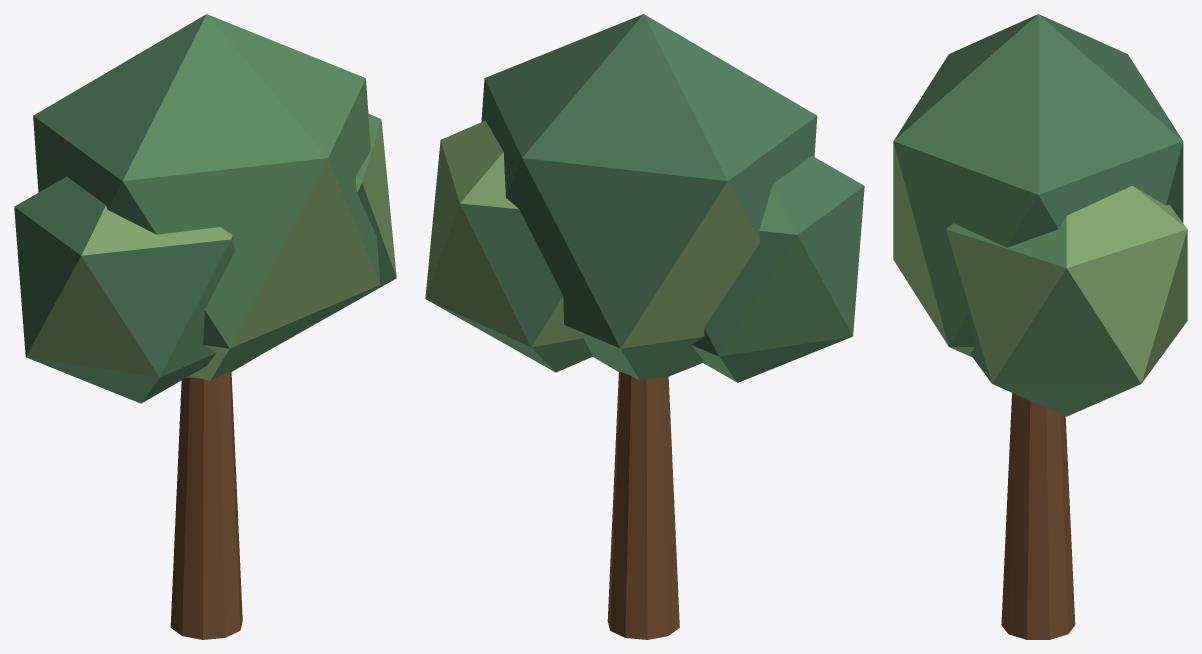
The model's file is Tree.glb.
3 renders of one model, left to right at view 1: azimuth 30°, elevation 25°; view 2: azimuth 150°, elevation 25°; view 3: azimuth 270°, elevation 25°, orthographic.
Visible parts, largest first — view 1: Tree; view 2: Tree; view 3: Tree.
Part boxes in pixels (x1,y1,x2,y2): Tree: (14,14,396,639); Tree: (425,14,864,639); Tree: (893,14,1187,639).
Size of the model in its own units: 3.13 by 4.75 by 2.07.
